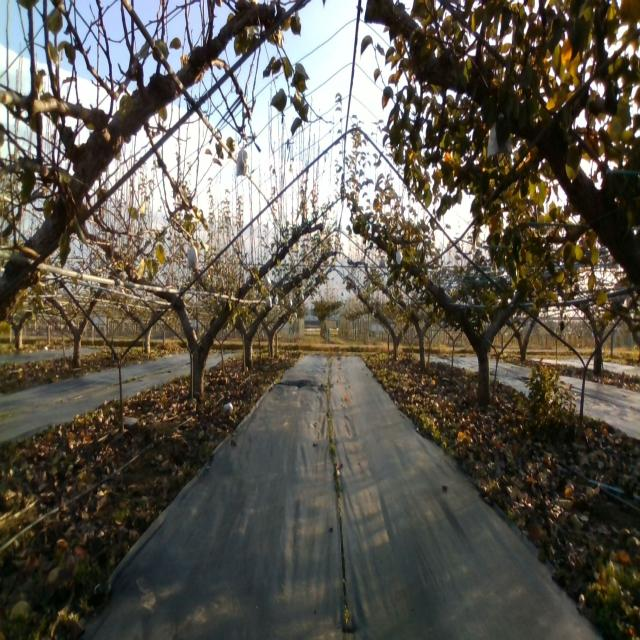pearbags: (184, 240, 200, 271), (234, 144, 249, 177)
